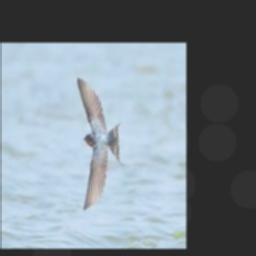Swallow: (78, 77, 126, 211)
